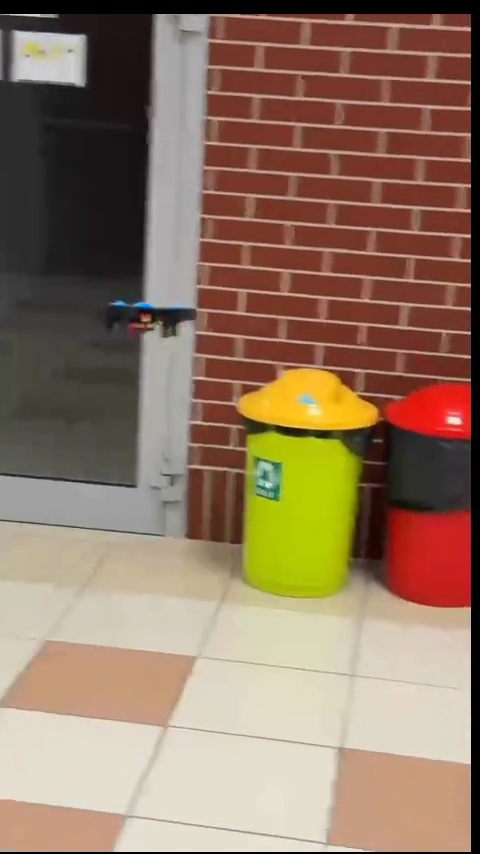drone: (102, 296, 204, 341)
